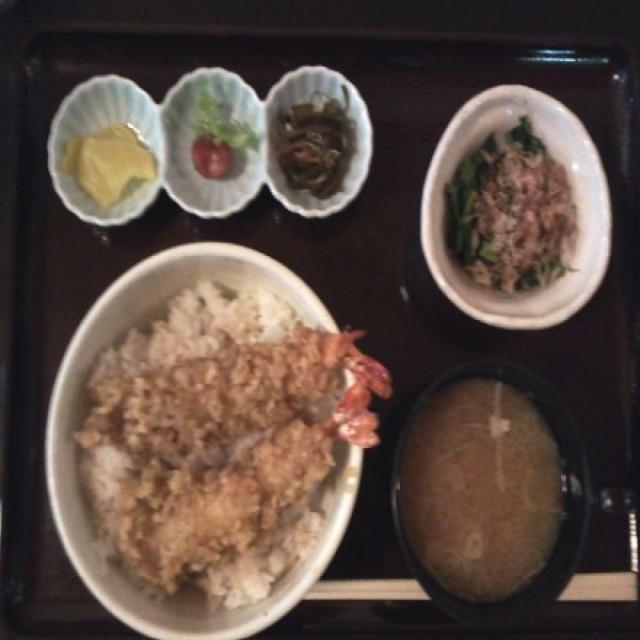汤锅炖物: (380, 348, 608, 640)
熟制海鲜: (21, 257, 382, 640)
